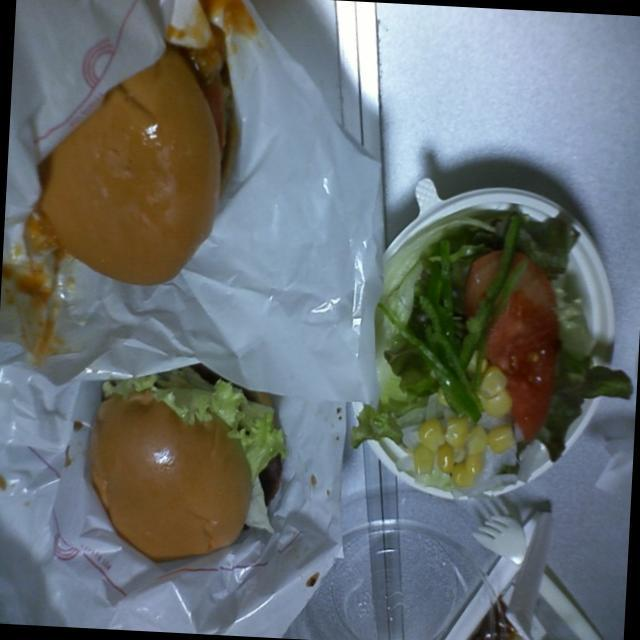Hamburger: (21, 21, 251, 305)
